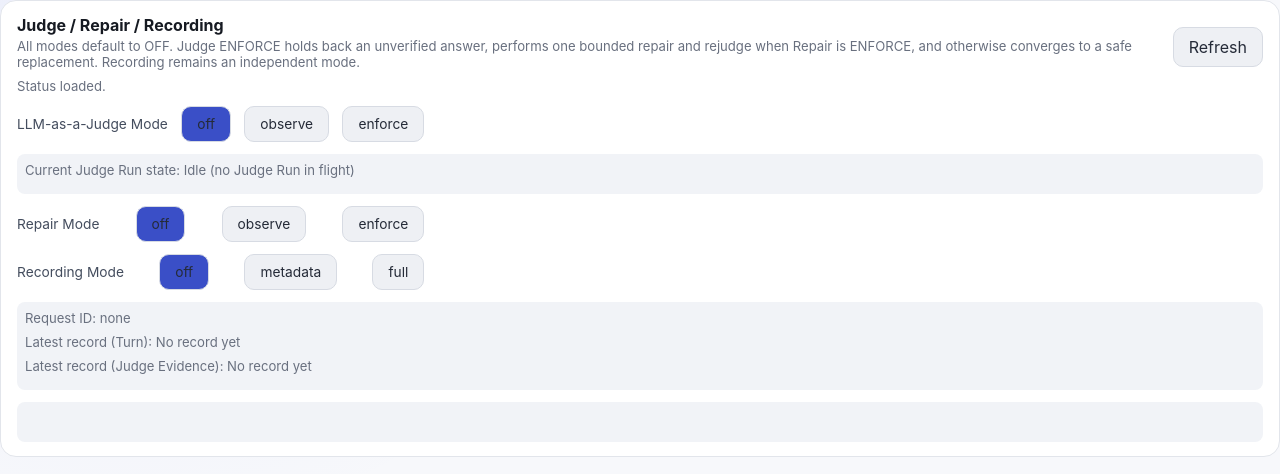
it: FeatureModesPanel › a failed apply re-fetches canonical state and never leaves an optimistic selection
What coordinates should you click on to do the following:
click the radio button with id "feature-modes-recording-full"
I would click on:
 (398, 272)
Its box is [372,254,424,290].
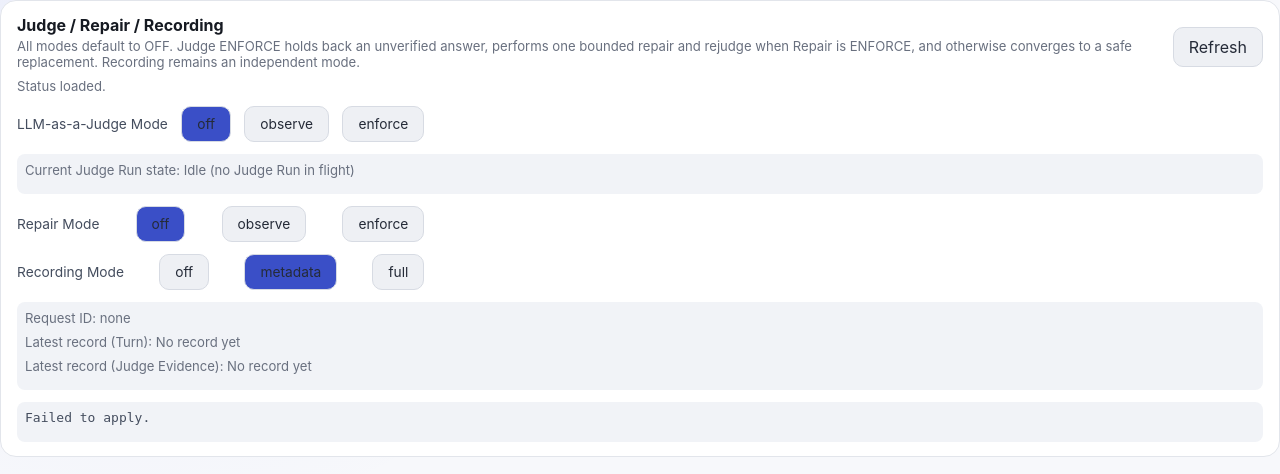
Check: the text "Failed to apply." is shown, box [17,402,1263,442]
